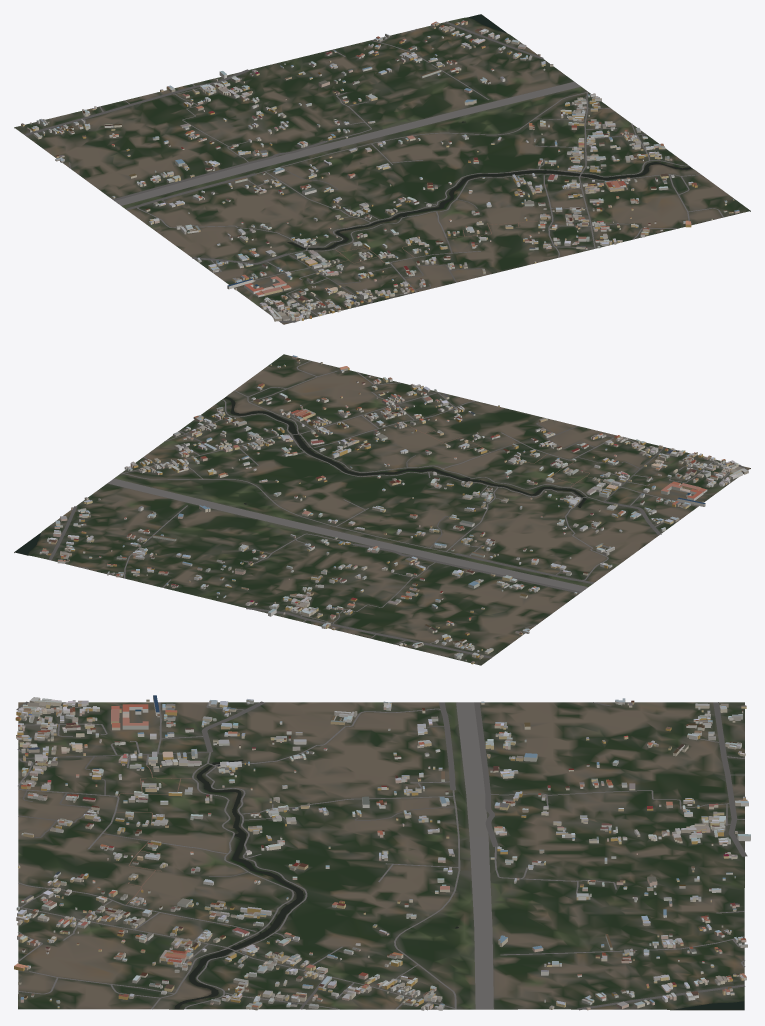
The picture shows the model from 3 angles, top to bottom: view 1: azimuth 30°, elevation 25°; view 2: azimuth 150°, elevation 25°; view 3: azimuth 270°, elevation 25°; orthographic projection. The views are drawn at different scales.
Visible parts, largest first — view 1: ground, buildings, roads, water; view 2: ground, buildings, roads, water; view 3: ground, buildings, roads, water.
Boxes of the visible parts, x1,y1,x2,y2 form: ground: (14,15,750,324); buildings: (21,20,739,321); roads: (24,21,723,322); water: (287,14,691,249); ground: (14,354,750,665); buildings: (39,355,748,664); roads: (48,360,748,658); water: (15,397,586,555); ground: (18,702,744,1010); buildings: (14,695,750,1010); roads: (16,701,747,1010); water: (174,759,744,1009).
Size of the model in its own units: 1420 by 15.23 by 1420.
